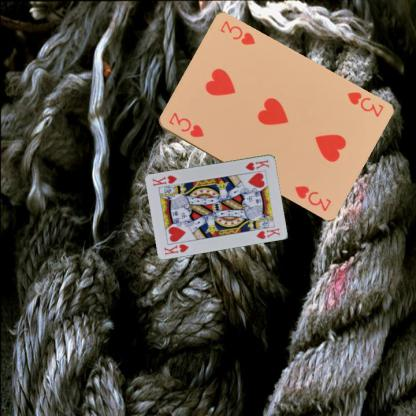3h: (344, 89, 385, 118), (166, 110, 205, 139)
Kh: (162, 241, 190, 256), (243, 157, 270, 172)
